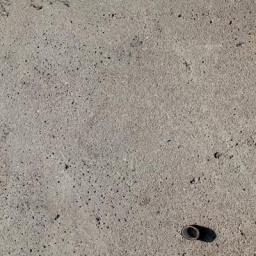FOD: (179, 223, 220, 248)
